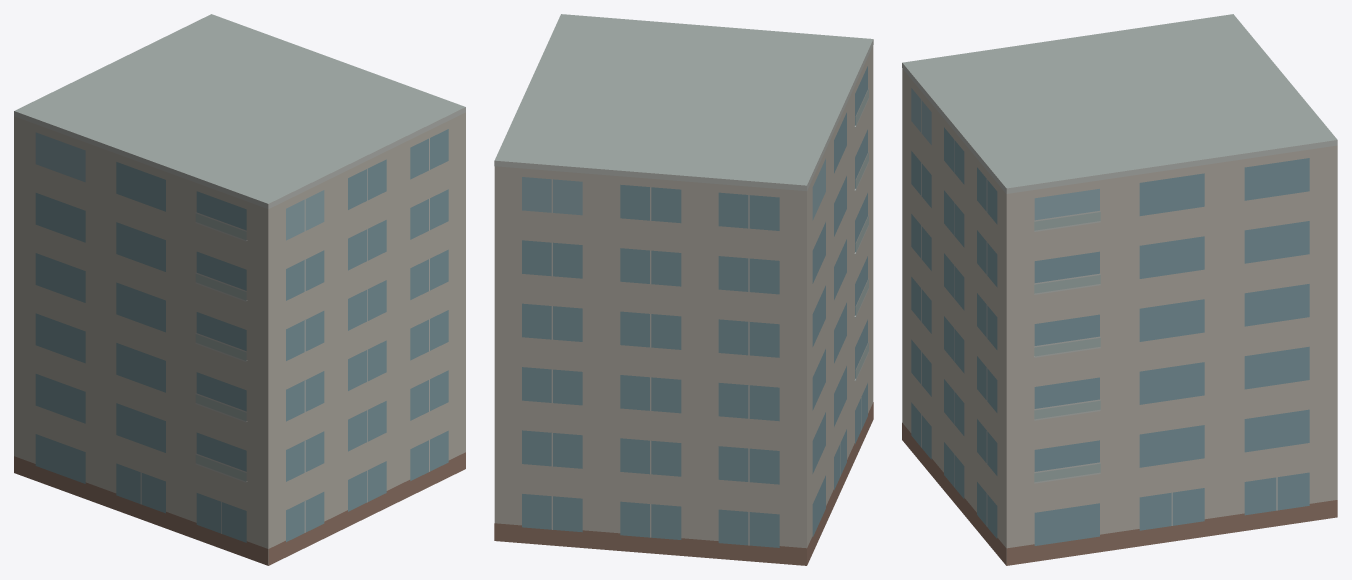
File: survey-upis-32607955.glb
The picture shows the model from 3 angles, left to right: view 1: azimuth 30°, elevation 25°; view 2: azimuth 150°, elevation 25°; view 3: azimuth 270°, elevation 25°; orthographic projection. The views are drawn at different scales.
Visible parts, largest first — view 1: survey-upis-32607955.tmp; view 2: survey-upis-32607955.tmp; view 3: survey-upis-32607955.tmp.
Part boxes in pixels (bbox=[...]): survey-upis-32607955.tmp: bbox=[14, 14, 465, 565]; survey-upis-32607955.tmp: bbox=[494, 14, 873, 565]; survey-upis-32607955.tmp: bbox=[902, 14, 1337, 565].
Size of the model in its own units: 16.47 by 16.6 by 17.37.
